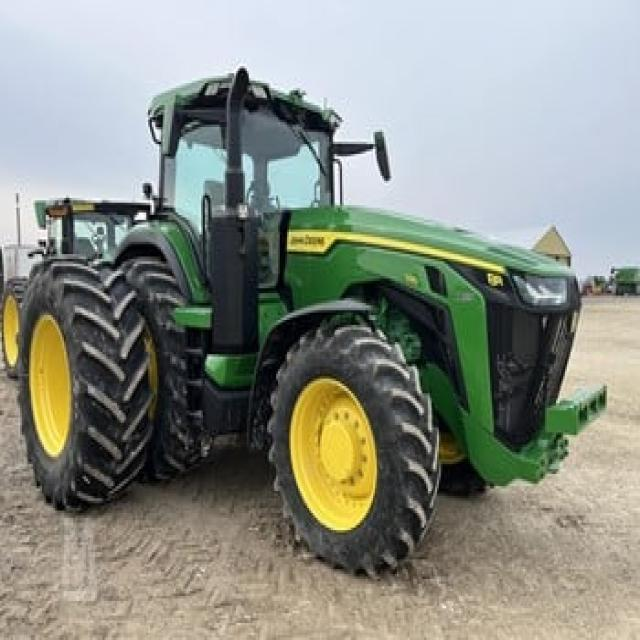Tratores - v5 YOLO V8L 2024-11-13: (16, 54, 616, 586)
